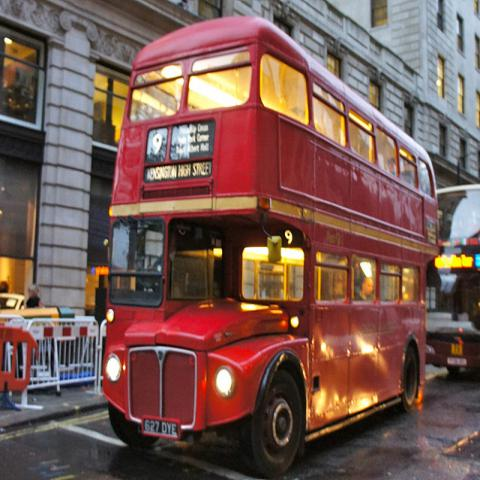bus: (102, 12, 441, 479), (428, 182, 480, 373)
car: (0, 293, 76, 318)
